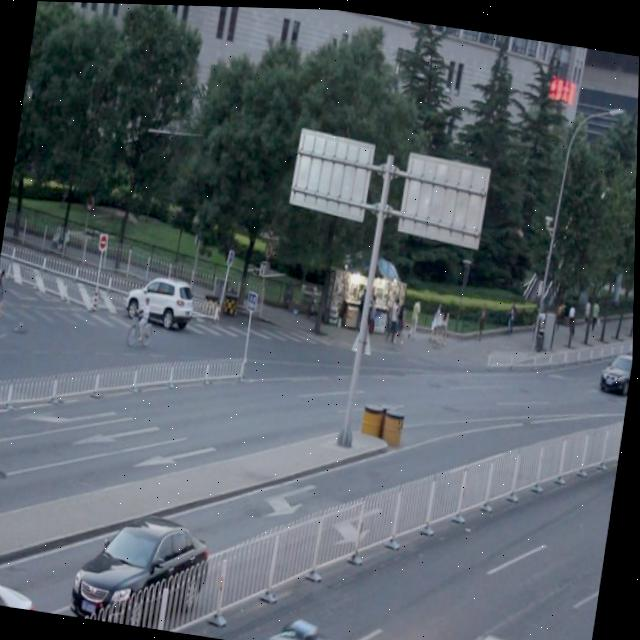car: (69, 506, 216, 632), (124, 269, 197, 330), (249, 606, 359, 640), (0, 559, 43, 610), (596, 340, 634, 393), (444, 625, 544, 640)
